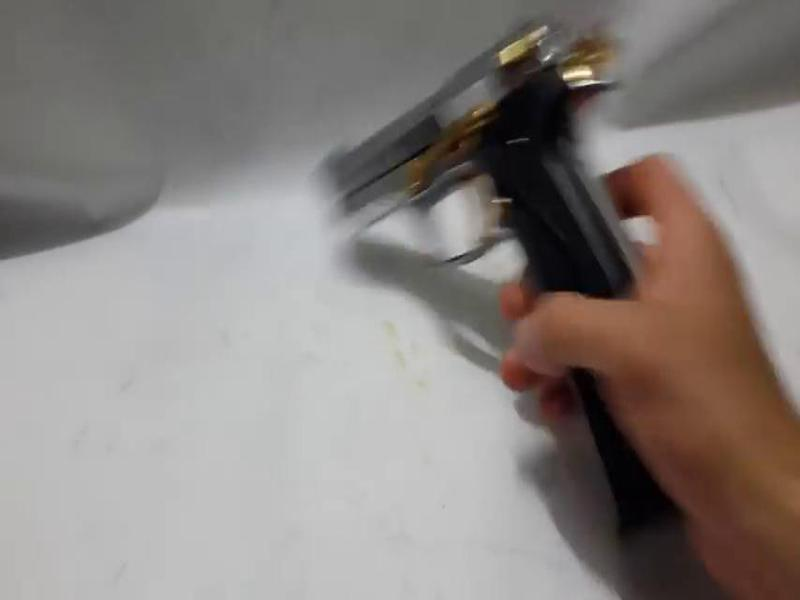Pistola: (301, 14, 679, 314)
